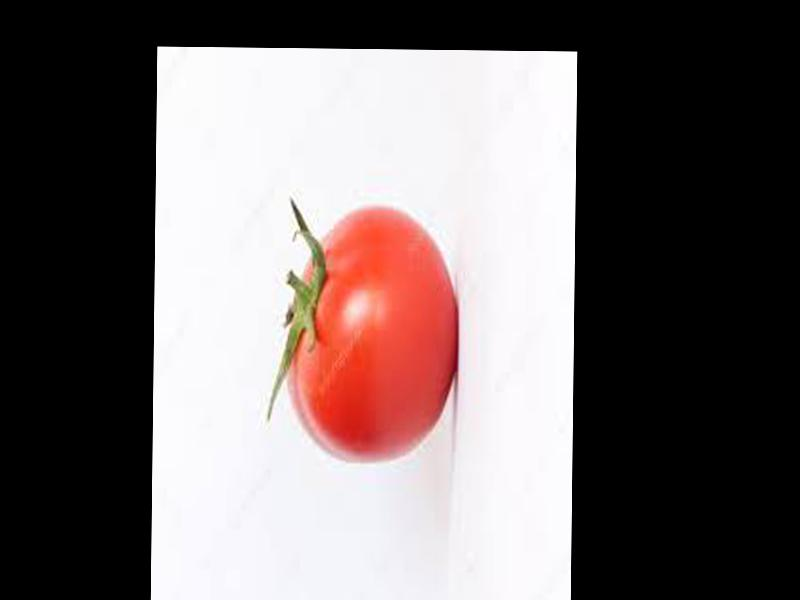Tomato: (288, 206, 460, 467)
